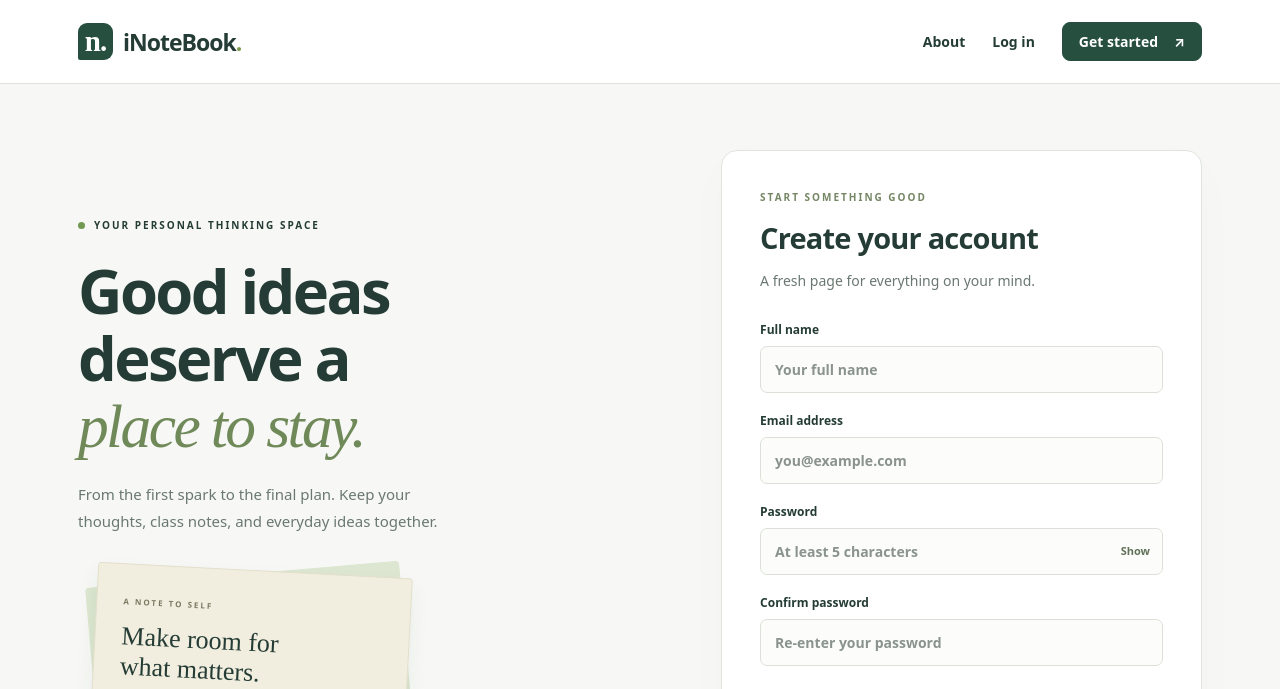
Test: signup rejects mismatched passwords without making an API request
Type "Test User" into the field labelled "Full name" at (962, 369), box [760,346,1163,393]
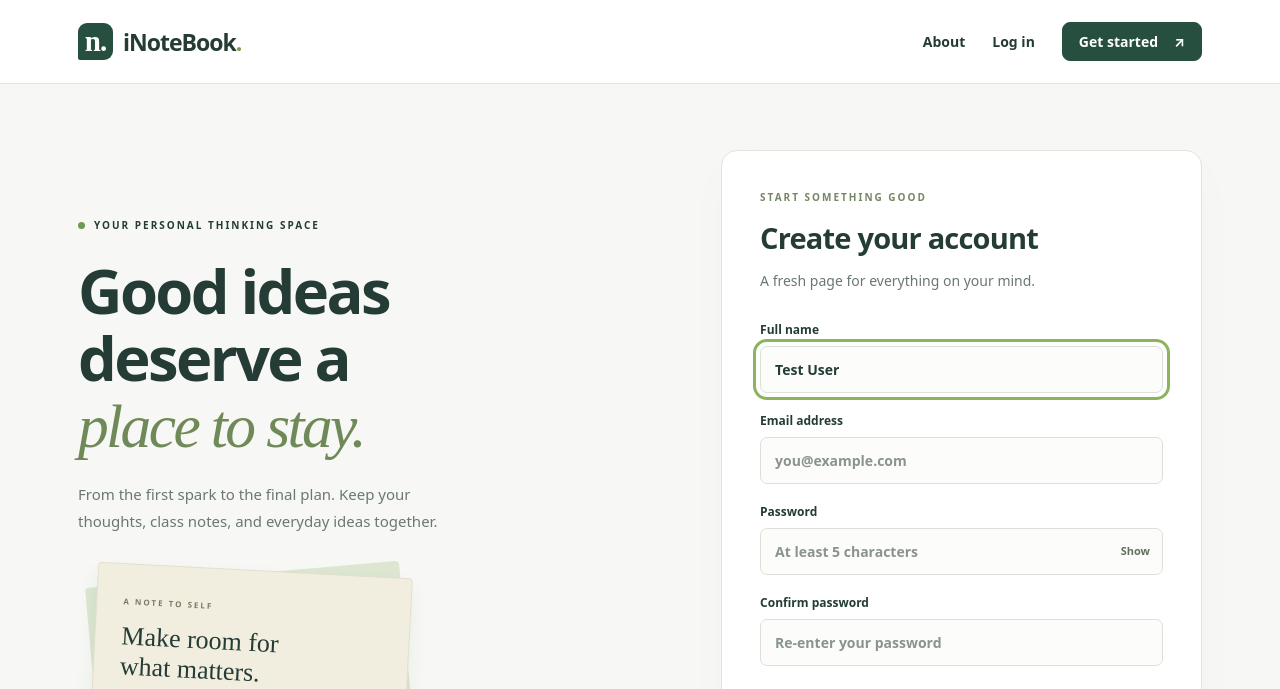
Type "test@example.com" into the field labelled "Email address" at (962, 460), box [760,437,1163,484]
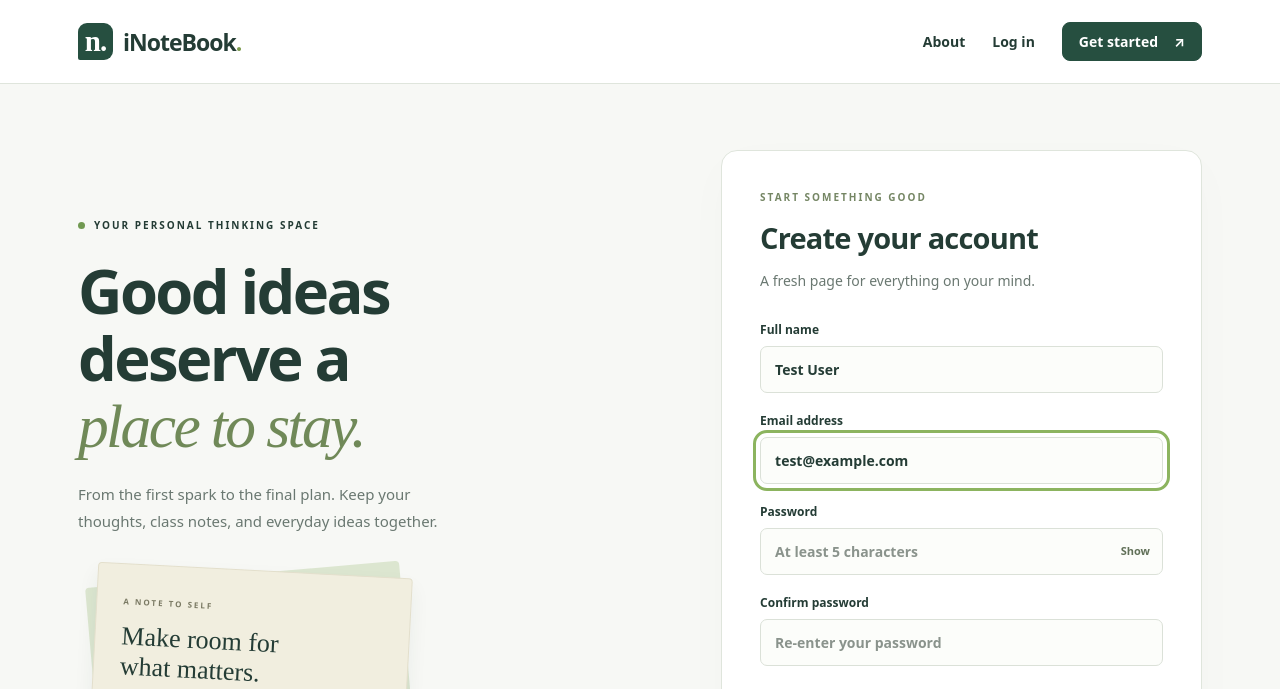
Type "secret" into the password field labelled "Password" at (962, 551), box [760,528,1163,575]
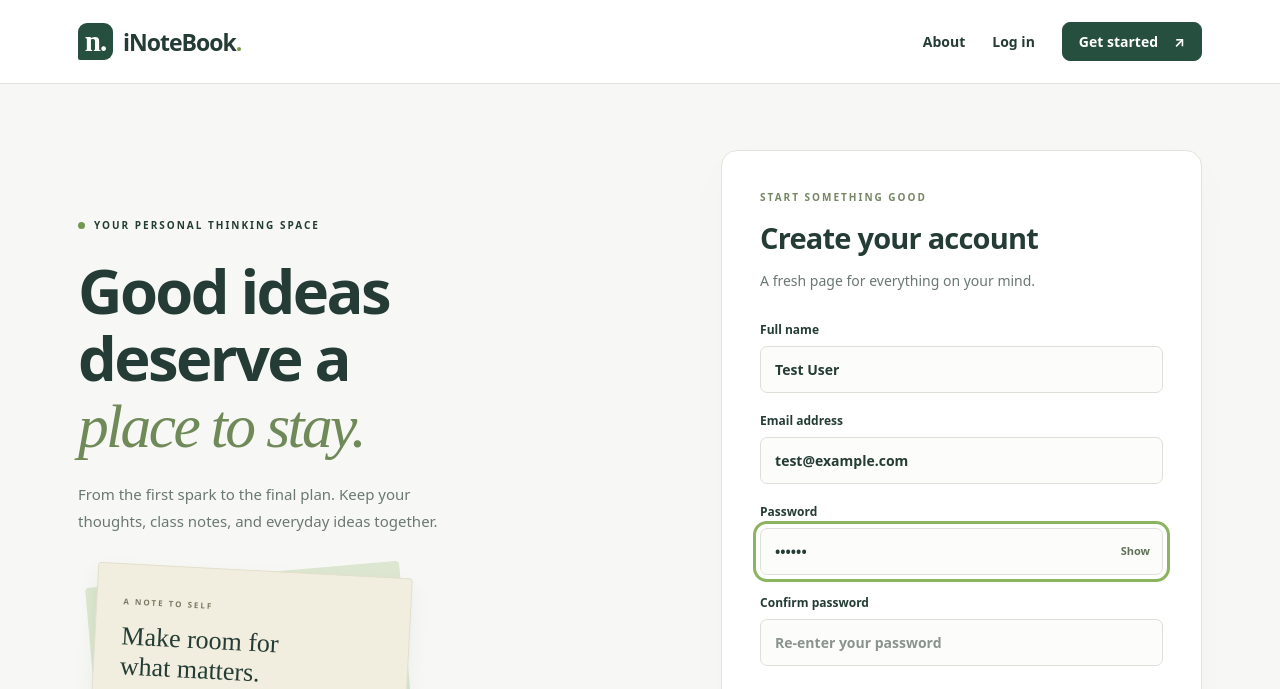
Type "different" into the password field labelled "Confirm password" at (962, 642), box [760,619,1163,666]
(page scrolled)
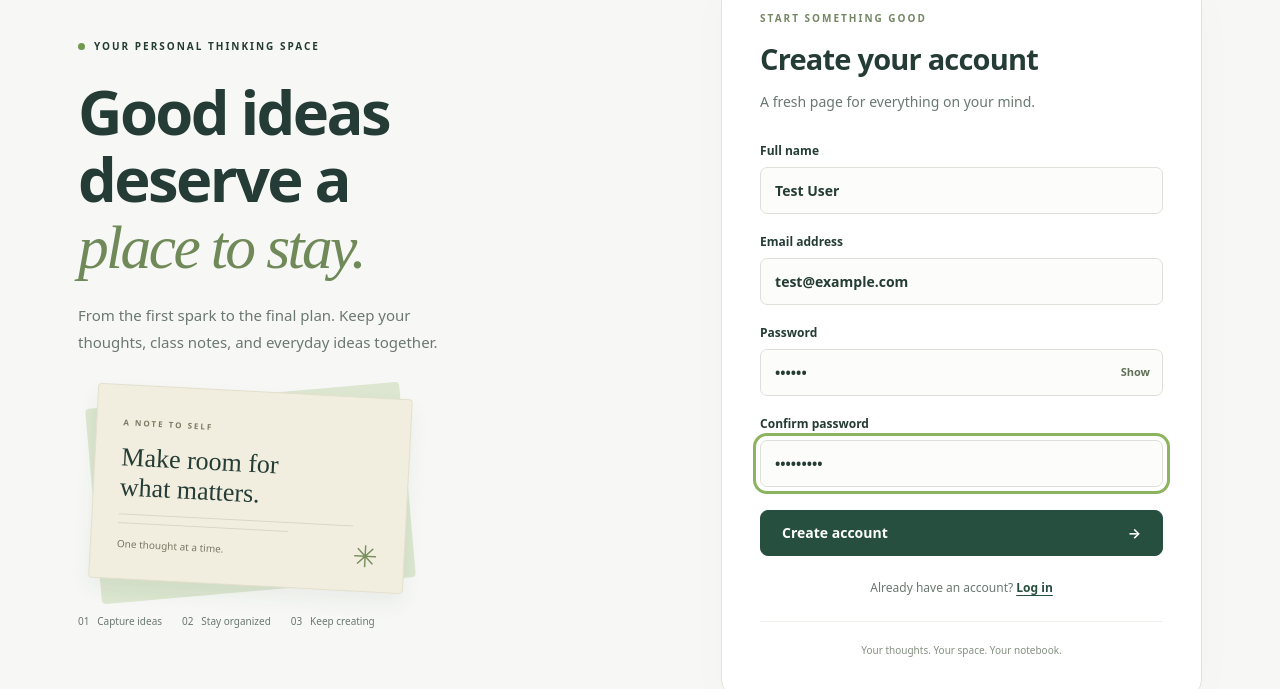
Submit the form "Create account", box [760,142,1163,579]
(page scrolled)
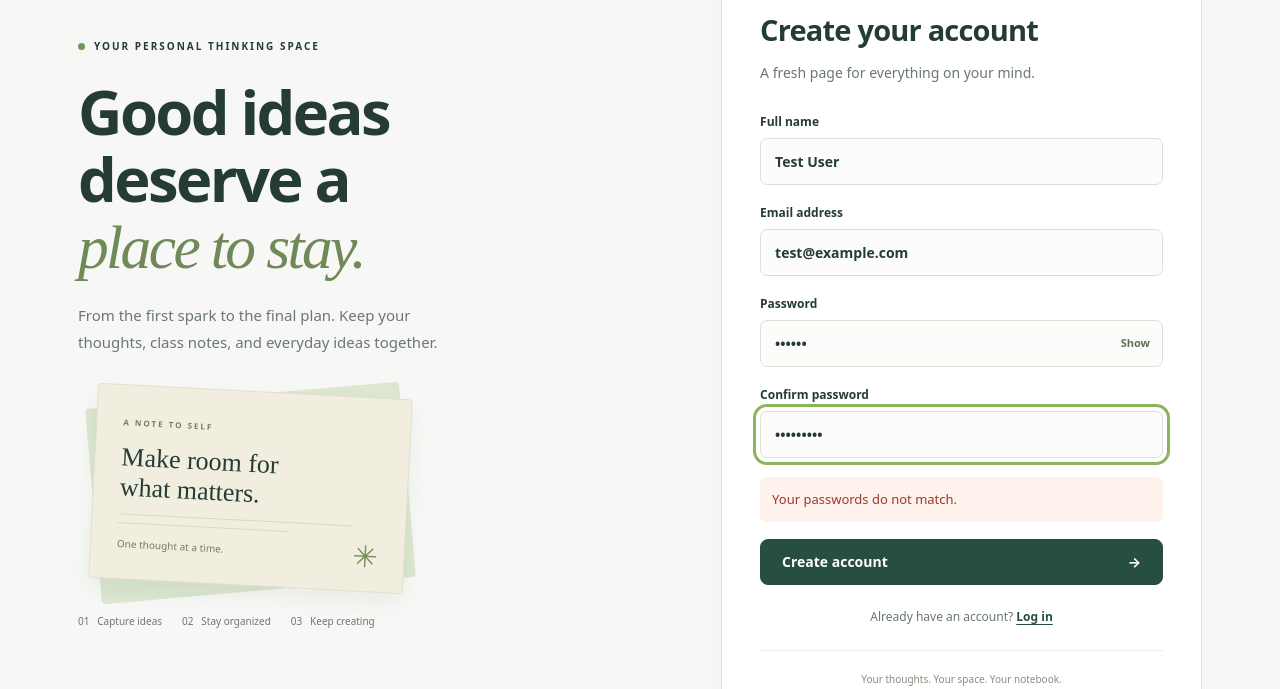
Expected: the text "Your passwords do not match." is shown, [760,477,1163,522]
